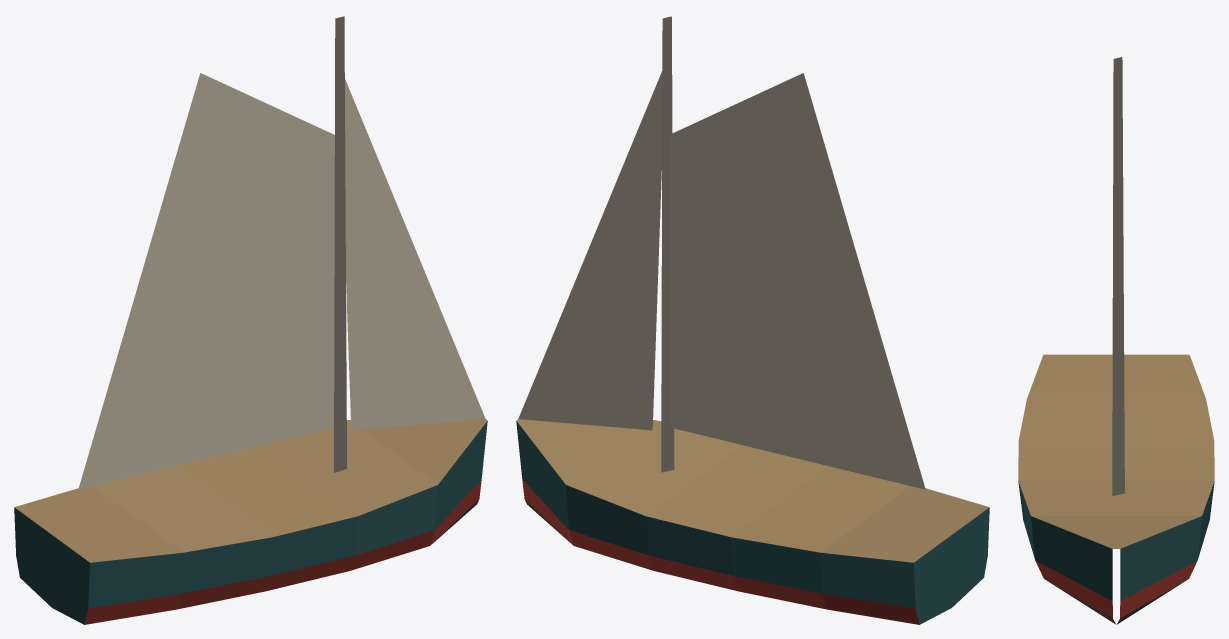
The model's file is hull_other_work_boat_lod.glb.
3 renders of one model, left to right at view 1: azimuth 30°, elevation 25°; view 2: azimuth 150°, elevation 25°; view 3: azimuth 270°, elevation 25°, orthographic. The views are drawn at different scales.
Visible parts, largest first — view 1: lod; view 2: lod; view 3: lod.
Boxes of the visible parts, x1,y1,x2,y2 form: lod: (14,16,487,624); lod: (516,16,989,624); lod: (1018,57,1214,624).
Size of the model in its own units: 7.5 by 8.92 by 3.06.
